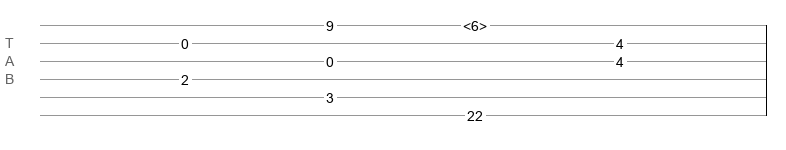0: (181, 36, 189, 46), (326, 54, 334, 64)
2: (181, 72, 189, 82)
22: (467, 108, 483, 118)
3: (326, 90, 334, 100)
4: (616, 36, 624, 46), (616, 54, 624, 64)
9: (326, 18, 334, 28)
harmonic: (463, 18, 487, 28)
